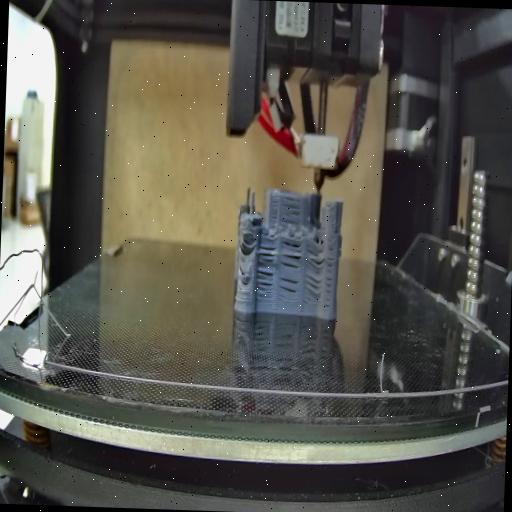cracks: (278, 238, 302, 269), (324, 244, 334, 310), (276, 274, 298, 304), (254, 269, 274, 300), (280, 196, 300, 226), (306, 244, 326, 268), (303, 272, 322, 296), (257, 242, 276, 262), (237, 237, 249, 253), (237, 263, 246, 279), (332, 222, 338, 235)
